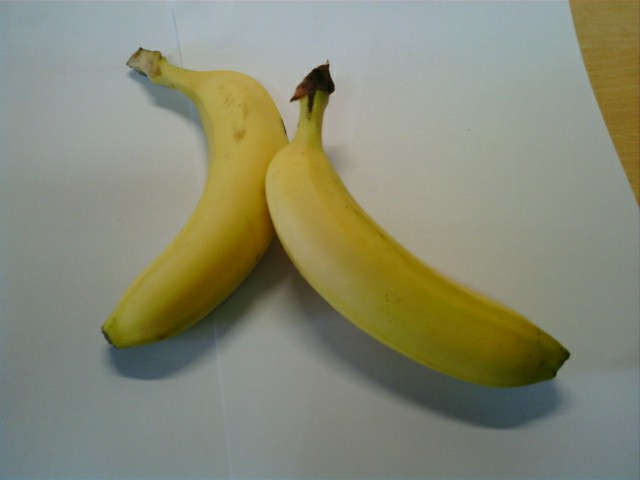fresh_banana: (262, 131, 569, 391), (99, 64, 286, 346)
